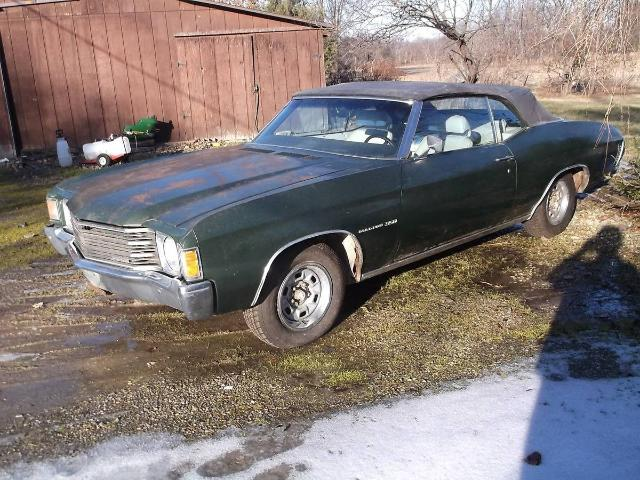chevelle-1972: (45, 82, 625, 348)
